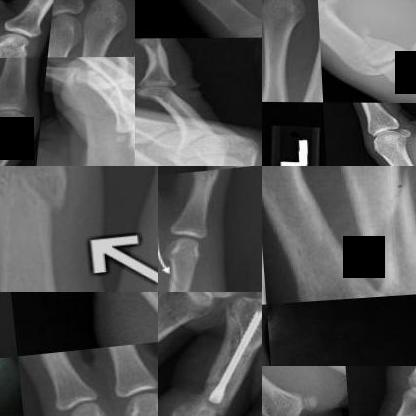fracture: (346, 166, 415, 300), (192, 305, 261, 413), (0, 166, 70, 237), (342, 27, 414, 77), (162, 267, 194, 291), (108, 57, 134, 72), (135, 38, 177, 47)
